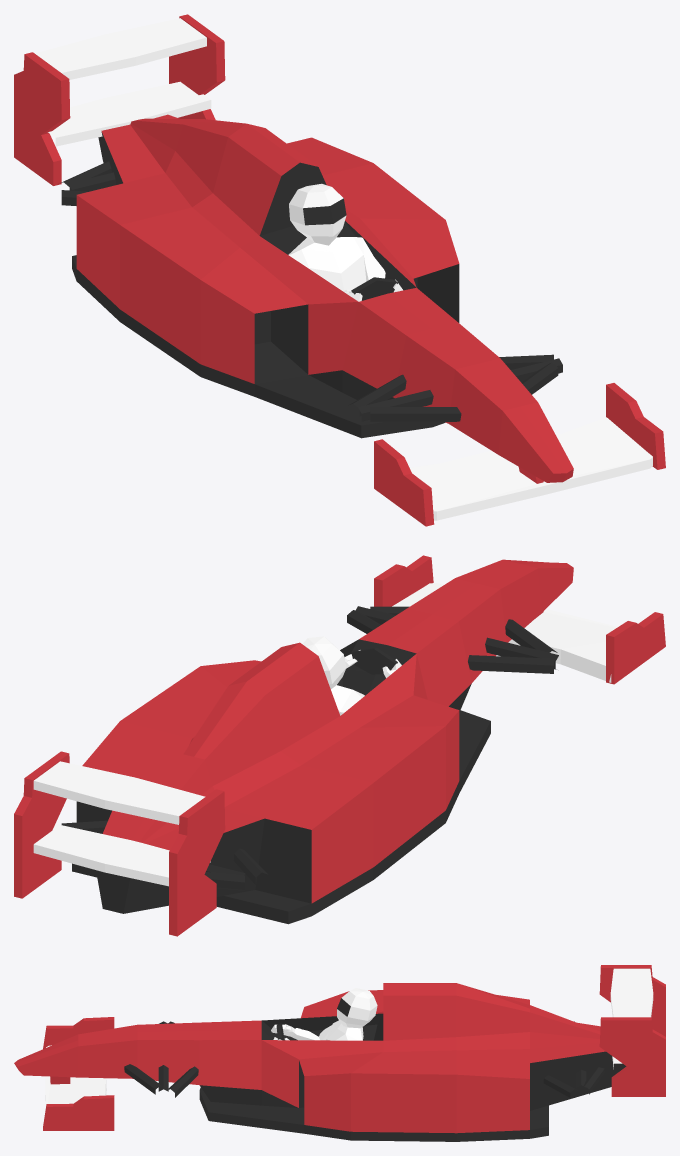
The model's file is car-formula-base.glb.
3 renders of one model, top to bottom at view 1: azimuth 30°, elevation 25°; view 2: azimuth 150°, elevation 25°; view 3: azimuth 270°, elevation 25°, orthographic. The views are drawn at different scales.
Visible parts, largest first — view 1: car-formula-base; view 2: car-formula-base; view 3: car-formula-base.
Part boxes in pixels (bbox=[...]): car-formula-base: bbox=[14, 14, 665, 526]; car-formula-base: bbox=[14, 555, 665, 936]; car-formula-base: bbox=[14, 965, 665, 1141].
Bounding box in the file's own units: 1.51 × 0.9538 × 4.86.
Materials: 1 (1 with a texture image).
